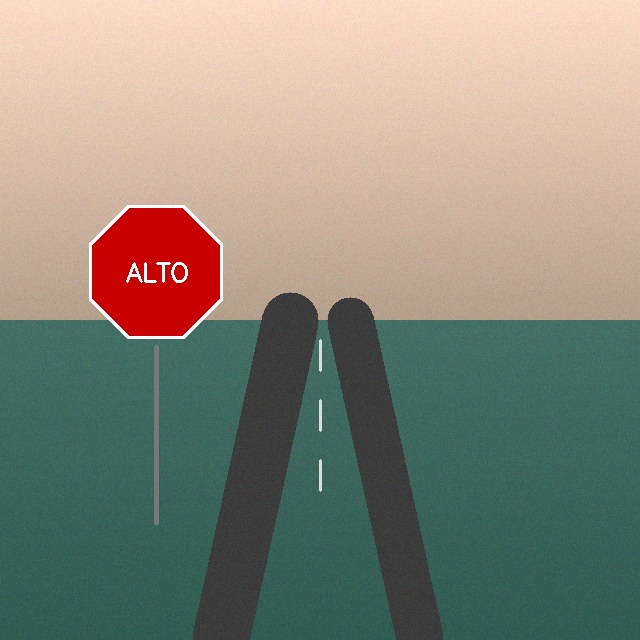alto: (83, 199, 230, 346)
